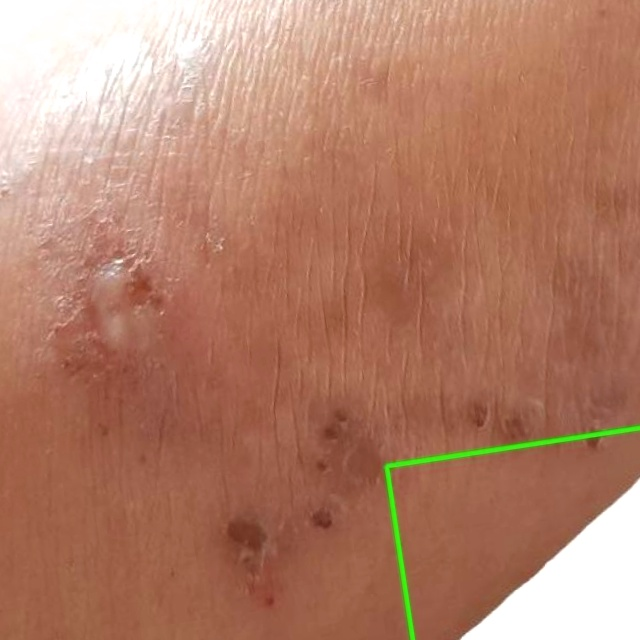Scabies: (386, 428, 639, 639)
